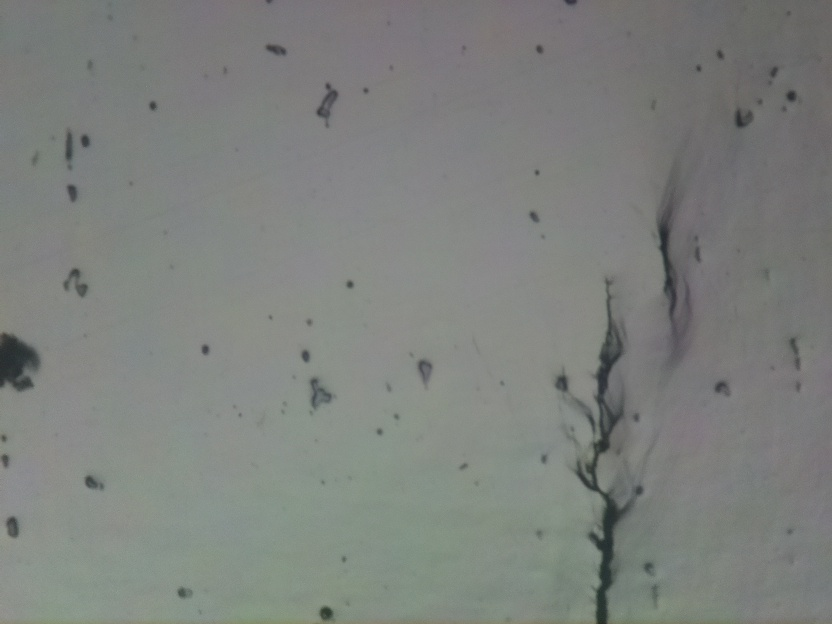crack: (567, 281, 643, 624), (652, 203, 684, 333)
